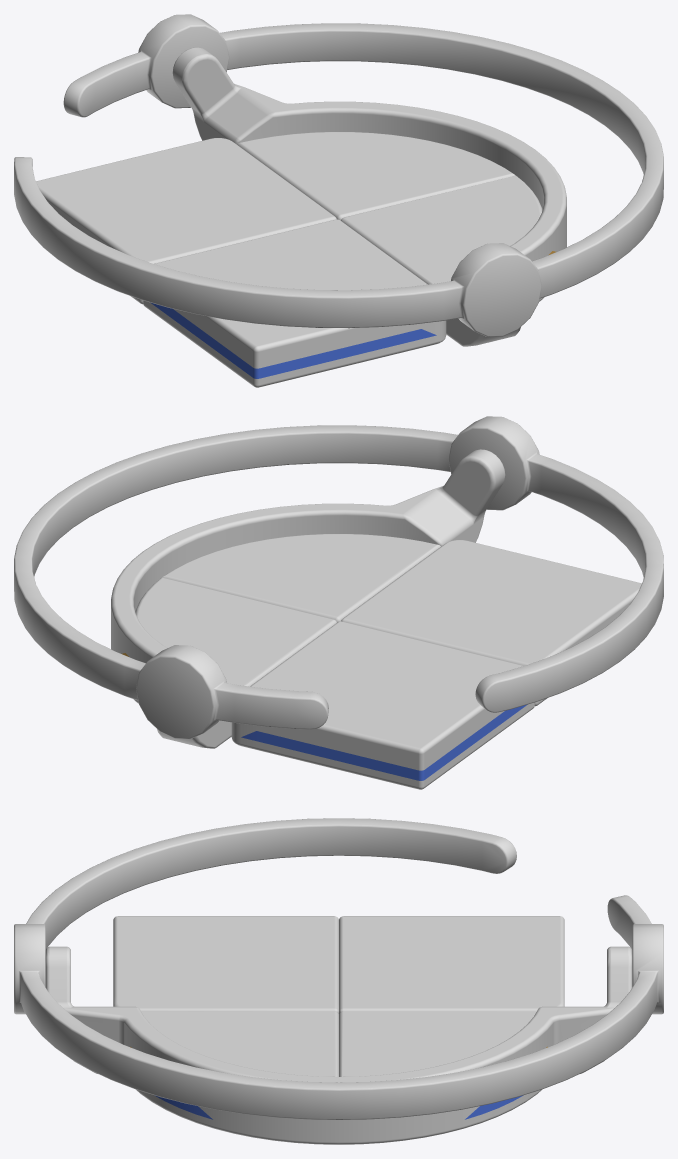
File: lab_set_frame.fbx
3 renders of one model, top to bottom at view 1: azimuth 30°, elevation 25°; view 2: azimuth 150°, elevation 25°; view 3: azimuth 270°, elevation 25°, orthographic.
Parts seen in each view (by area): view 1: frame_floor, frame, frame_border; view 2: frame_floor, frame, frame_border; view 3: frame_floor, frame, frame_border.
Boxes of the visible parts, <box> form: frame_floor: <box>36,132,542,387</box>; frame: <box>14,14,663,336</box>; frame_border: <box>172,47,566,346</box>; frame_floor: <box>135,534,641,789</box>; frame: <box>14,416,663,738</box>; frame_border: <box>111,449,505,748</box>; frame_floor: <box>113,916,564,1076</box>; frame: <box>14,818,663,1119</box>; frame_border: <box>45,946,632,1144</box>.
Size of the model in its own units: 143 by 30 by 144.
